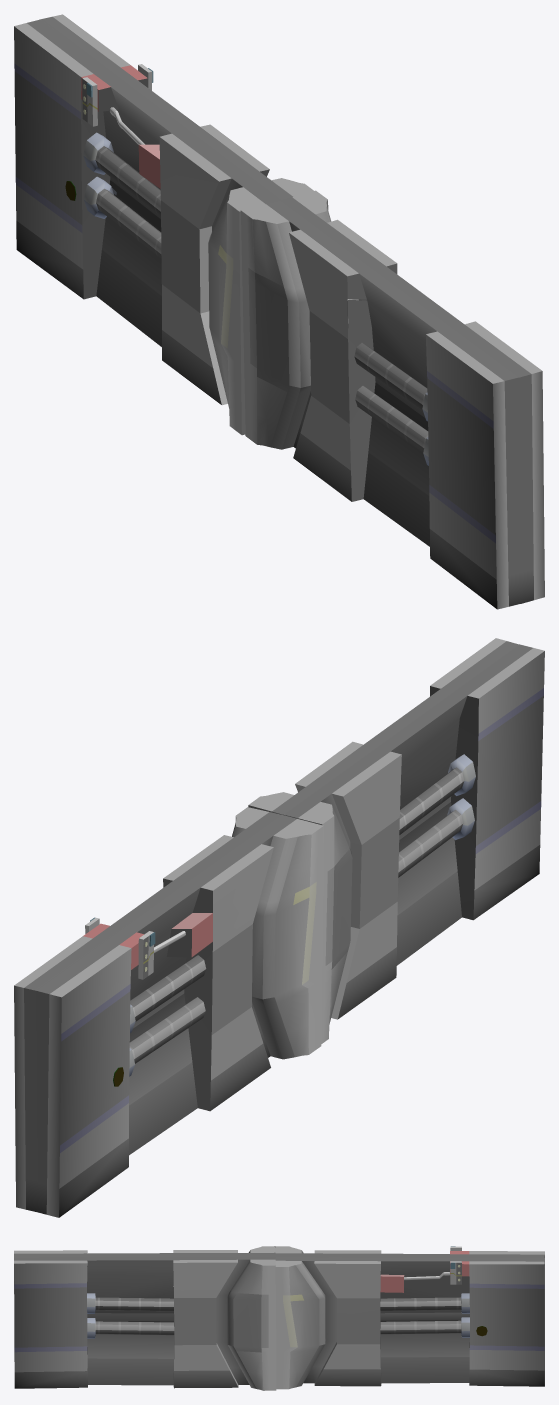
Rendered from puertasHorizontal.fbx.
The picture shows the model from 3 angles, top to bottom: view 1: azimuth 30°, elevation 25°; view 2: azimuth 150°, elevation 25°; view 3: azimuth 270°, elevation 25°; orthographic projection. The views are drawn at different scales.
Parts seen in each view (by area): view 1: polySurface242, polySurface241; view 2: polySurface241, polySurface242; view 3: polySurface241, polySurface242.
Boxes of the visible parts, <box> form: polySurface242: <box>240,190,544,609</box>; polySurface241: <box>14,14,313,435</box>; polySurface241: <box>14,807,323,1217</box>; polySurface242: <box>248,638,544,1043</box>; polySurface241: <box>275,1246,544,1389</box>; polySurface242: <box>14,1246,276,1390</box>.
Bounding box in the file's own units: 161 × 453 × 1699.
